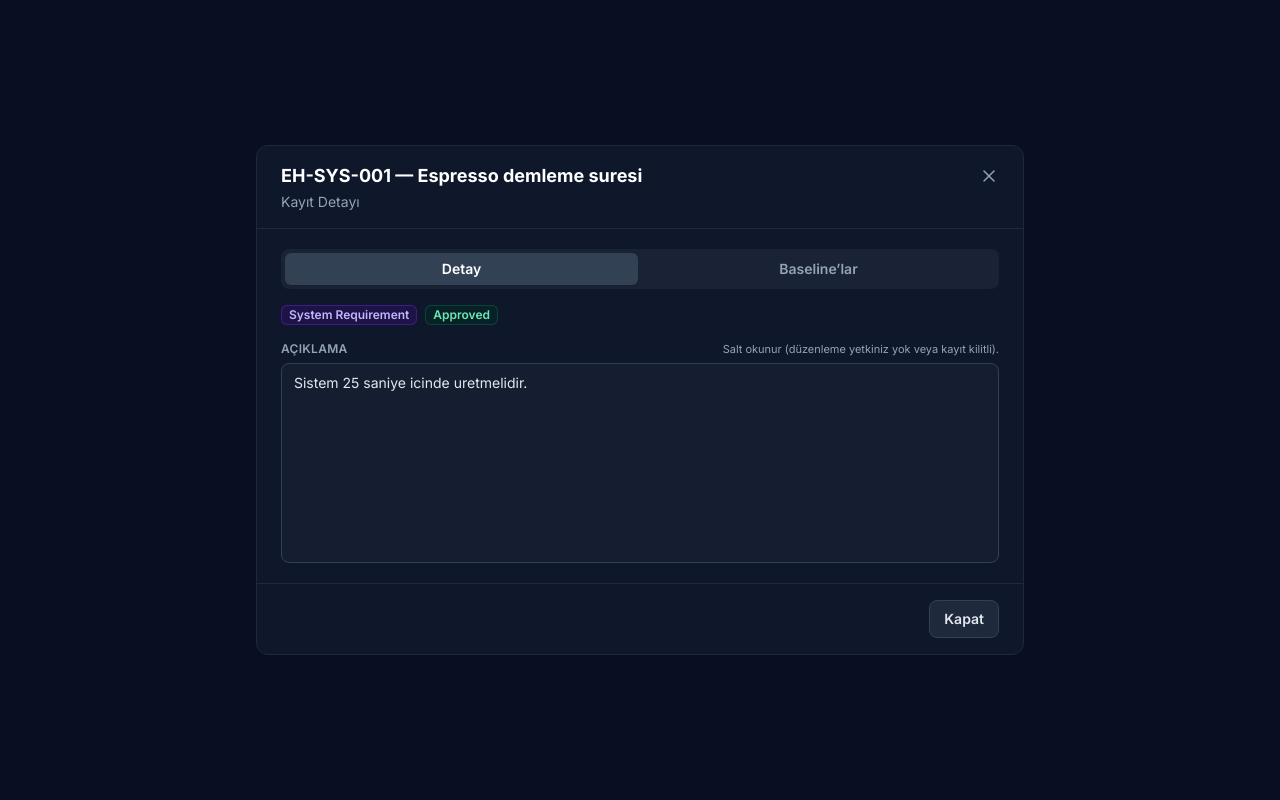
it: ViewModal — Baseline'lar sekmesi › baseline'a tiklaninca o surumdeki hal ve ALAN BAZINDA fark acilir
Click the tab with test id "view-tab-baselines": (818, 269) x1=642 y1=253 x2=995 y2=285
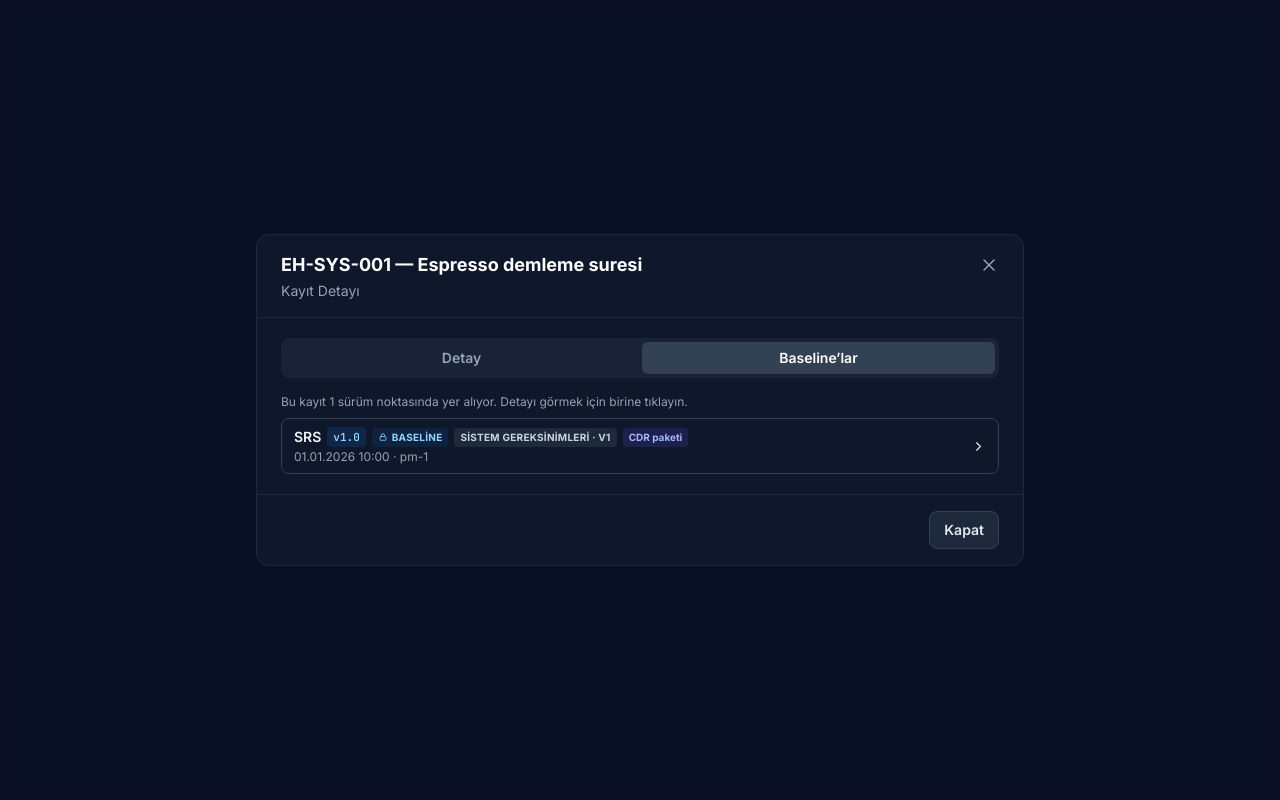
Click the button that starts with "SRS": (640, 446) x1=282 y1=419 x2=998 y2=473
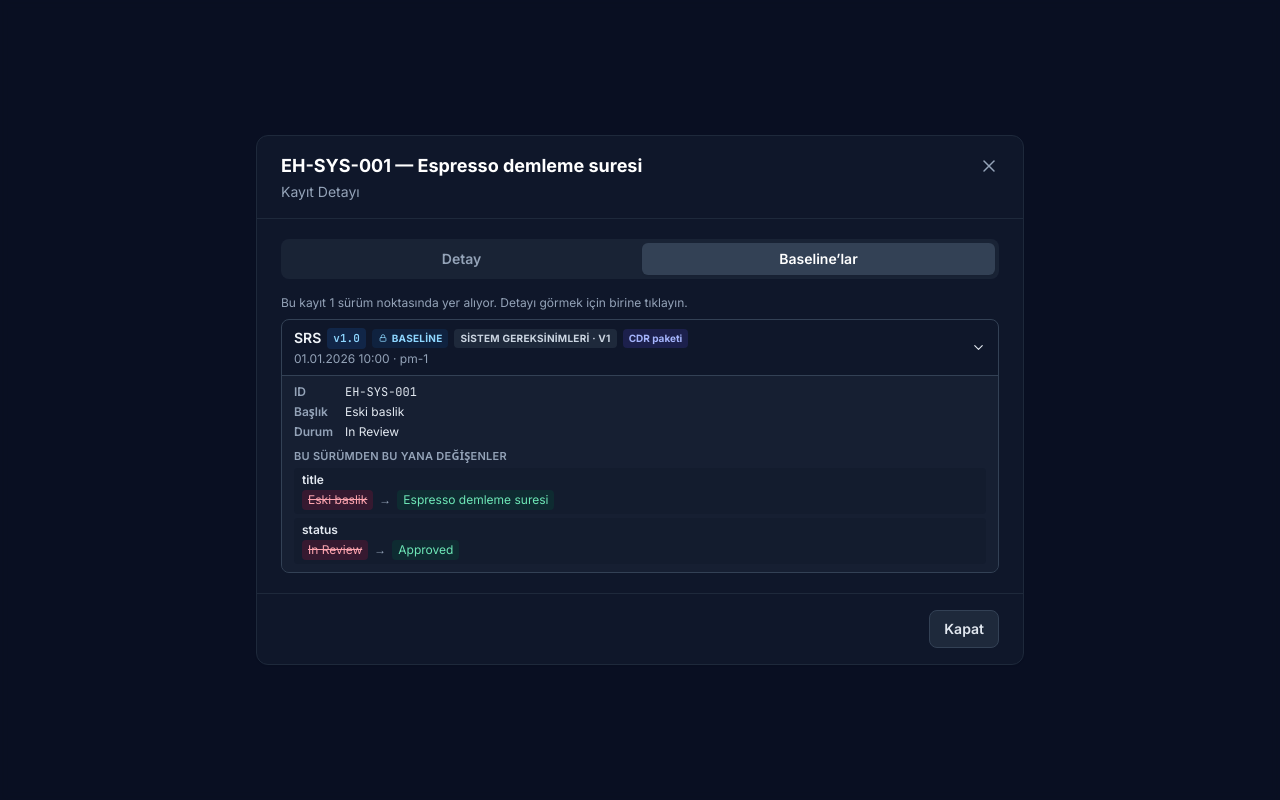
Expected: the element with test id "baseline-detail" shows "Eski baslik", x1=345 y1=404 x2=404 y2=418
Expected: the list with test id "baseline-fields" shows "title", x1=302 y1=472 x2=324 y2=487
Expected: the list with test id "baseline-fields" shows "Espresso demleme suresi", x1=403 y1=492 x2=548 y2=507
